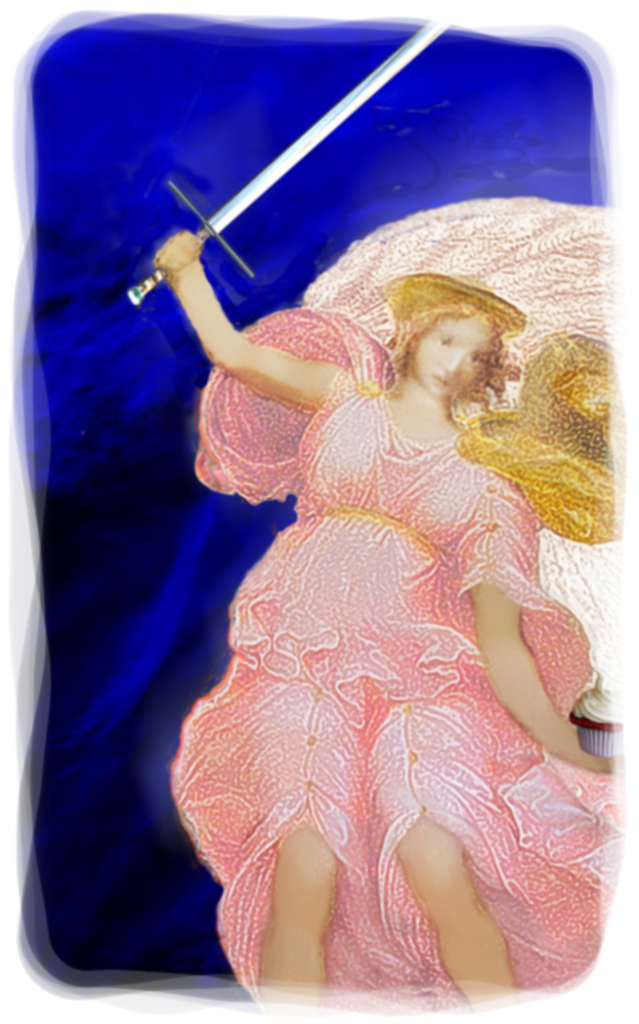Person: (151, 196, 623, 1013)
